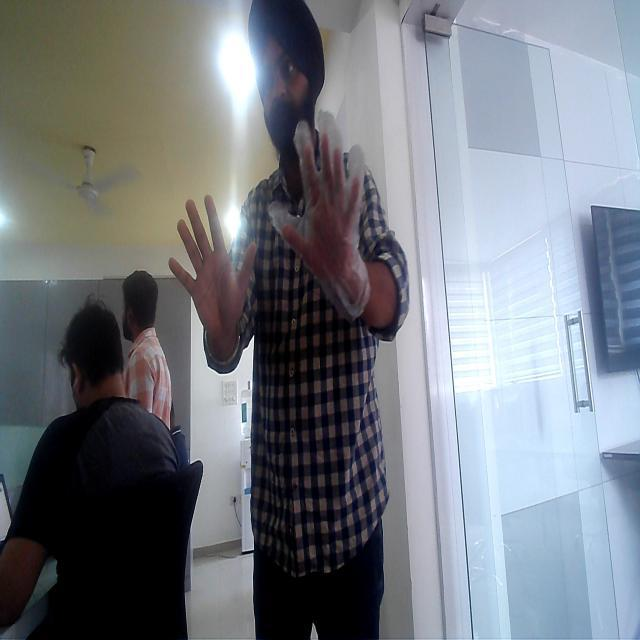with_gloves: (278, 121, 390, 311)
without_gloves: (164, 178, 264, 337)
